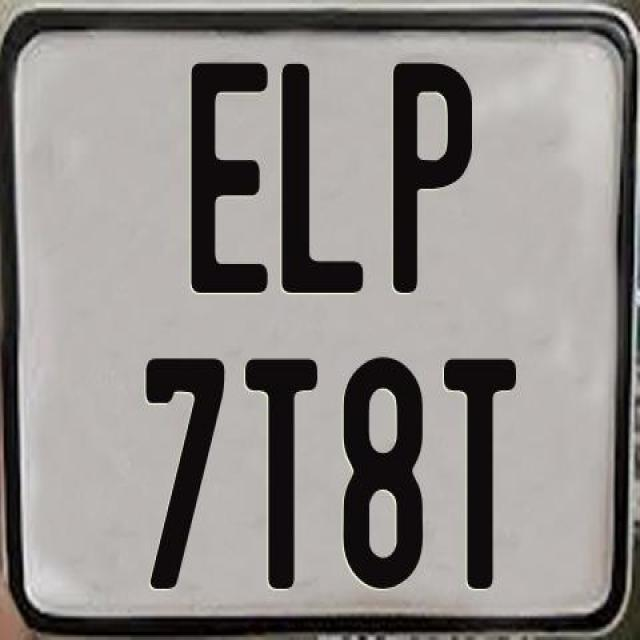7: (144, 355, 225, 592)
8: (338, 357, 426, 589)
E: (186, 61, 266, 296)
L: (279, 59, 362, 294)
P: (390, 62, 478, 293)
T: (246, 355, 322, 587), (440, 355, 512, 587)
